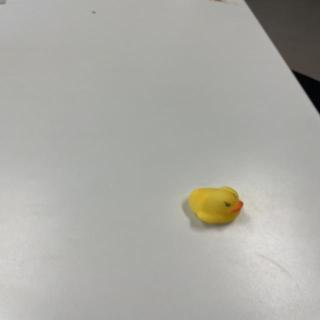duck_regular: (188, 186, 246, 226)
